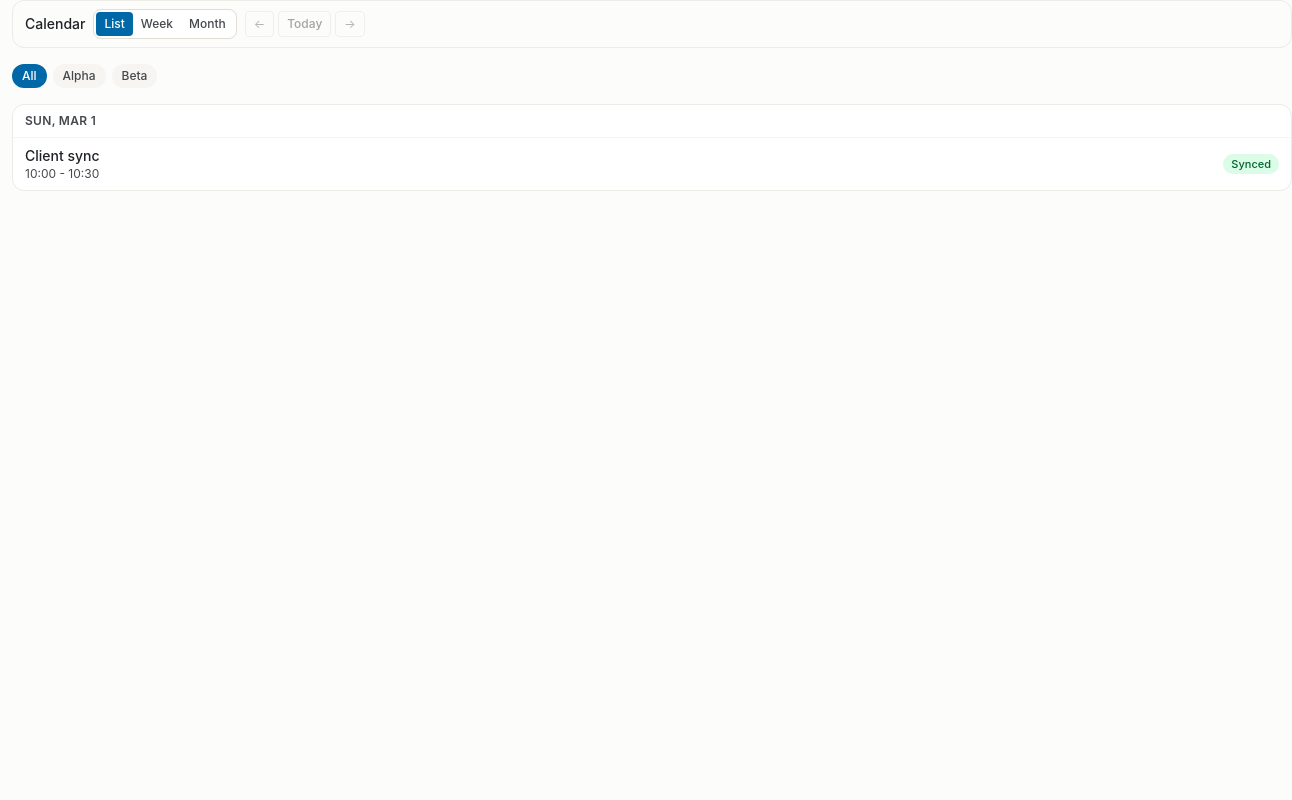
Test: CalendarView › shows project links editor in detail panel
Click the text "Client sync" at (62, 156), box [25, 147, 100, 164]
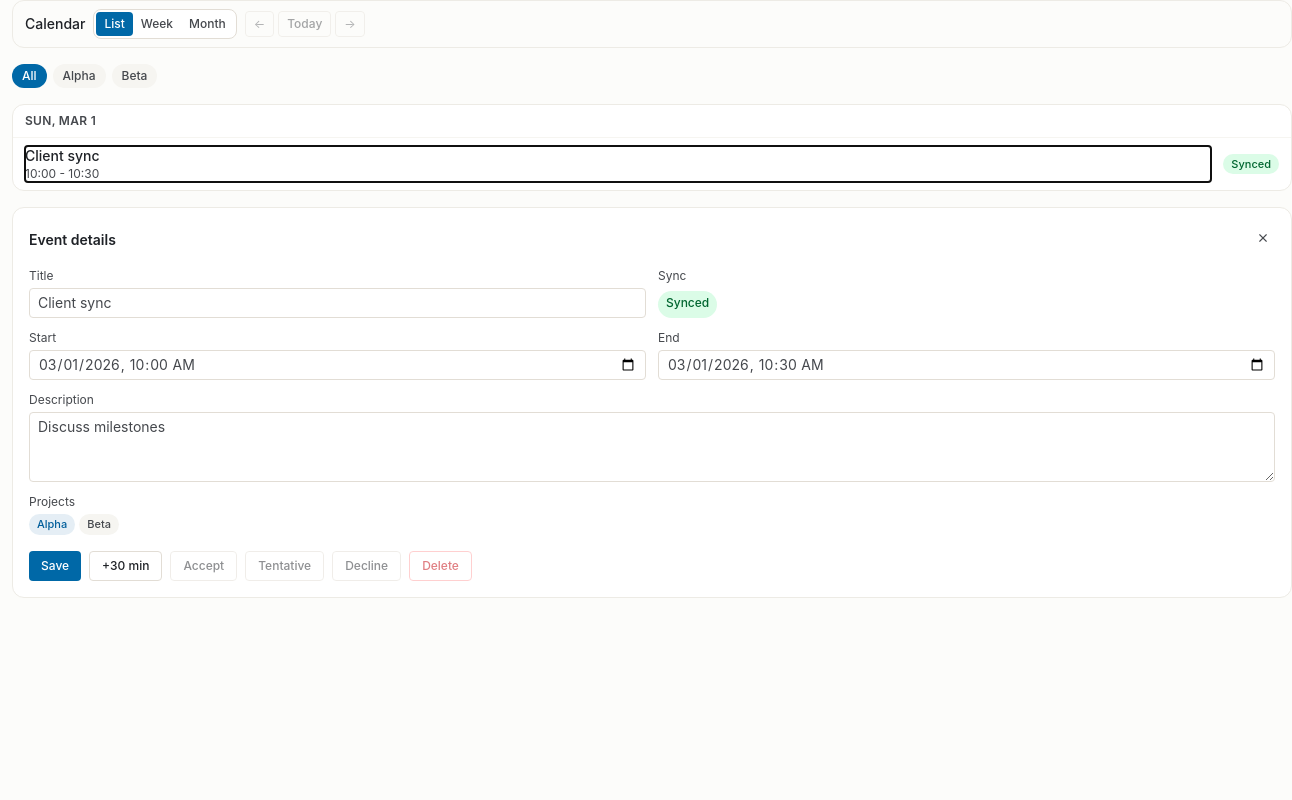
Now the text "Projects" is shown, box [29, 494, 75, 509]
